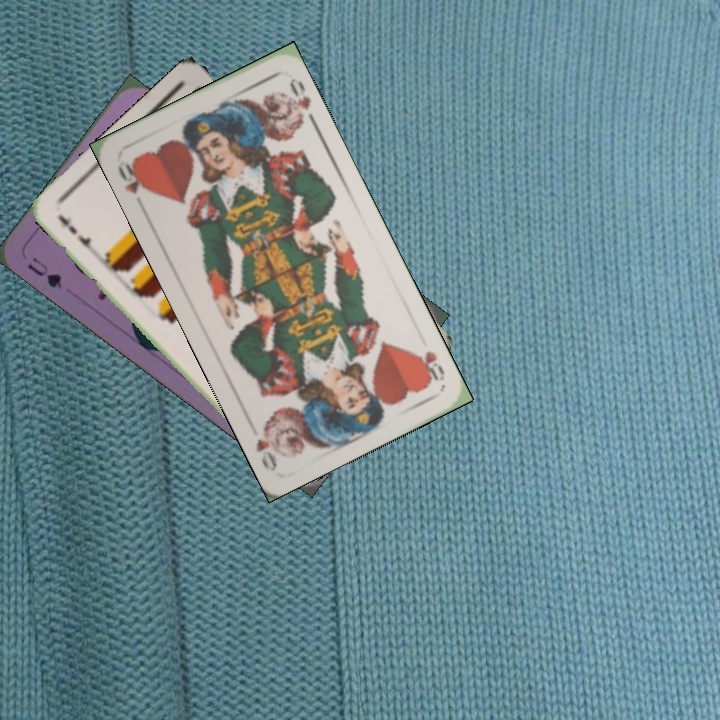E7: (53, 210, 100, 256)
GU: (23, 252, 65, 291)
HO: (113, 156, 151, 212), (409, 346, 448, 386)
